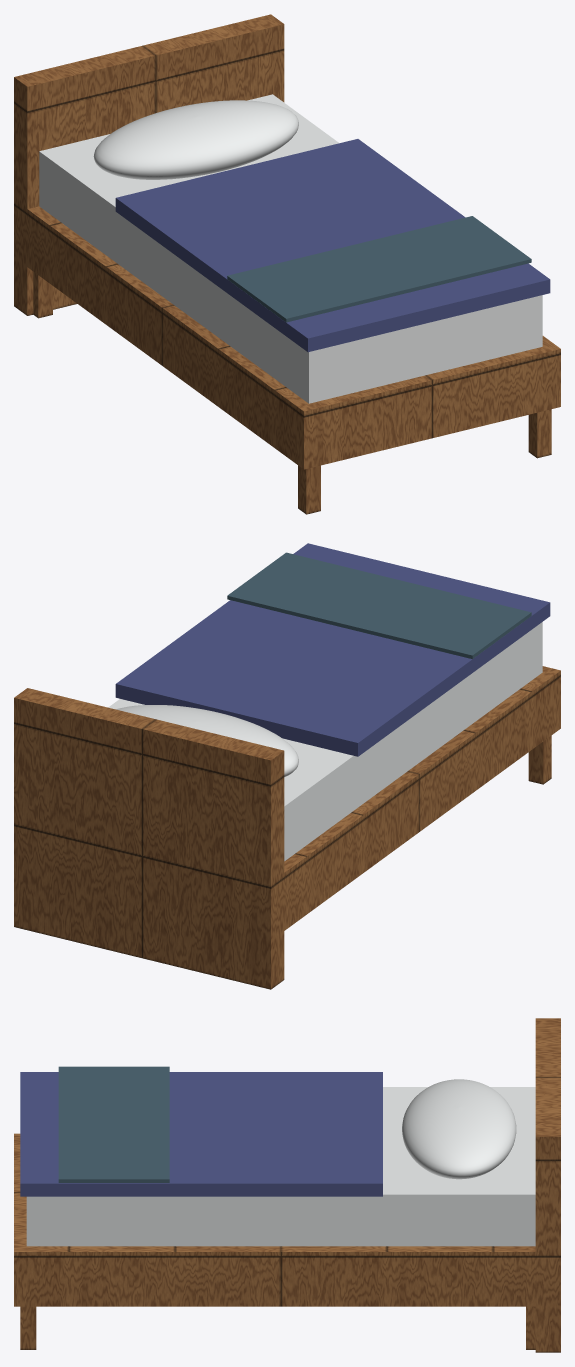
File: Agy_gyerek_80.obj
3 renders of one model, top to bottom at view 1: azimuth 30°, elevation 25°; view 2: azimuth 150°, elevation 25°; view 3: azimuth 270°, elevation 25°, orthographic. The views are drawn at different scales.
Bounding box in the file's own units: 0.88 × 0.75 × 1.72.
4 materials, 1 textured.
